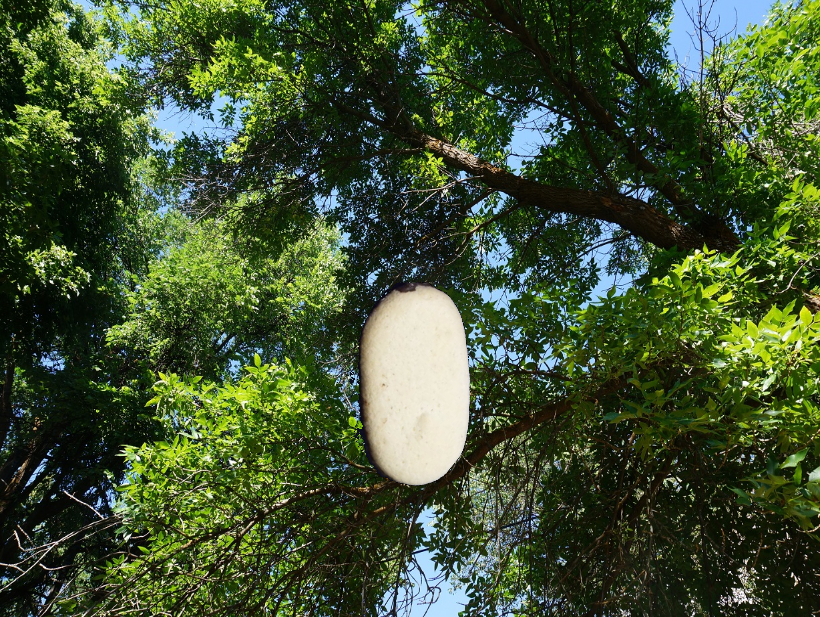test: (281, 253, 535, 509)
